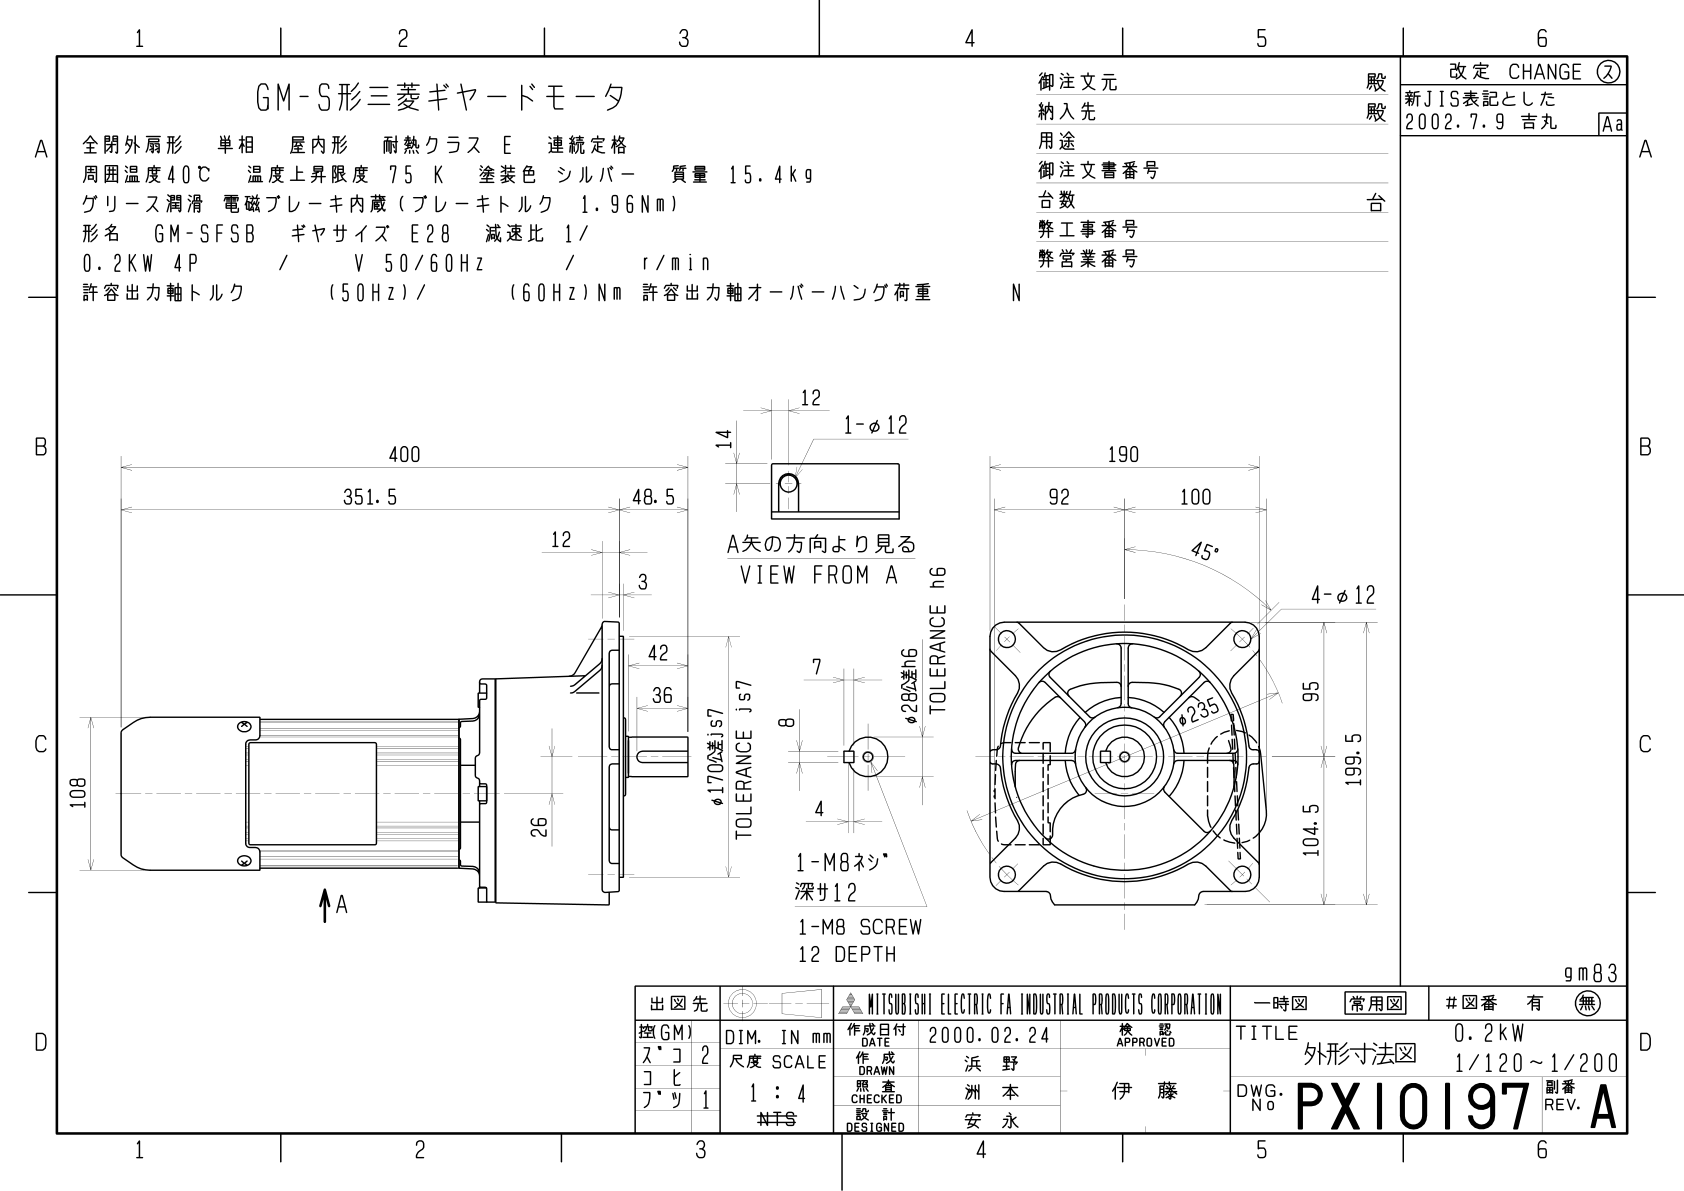GM_S_屋内＿単相_フランジ: (61, 373, 1389, 971)
